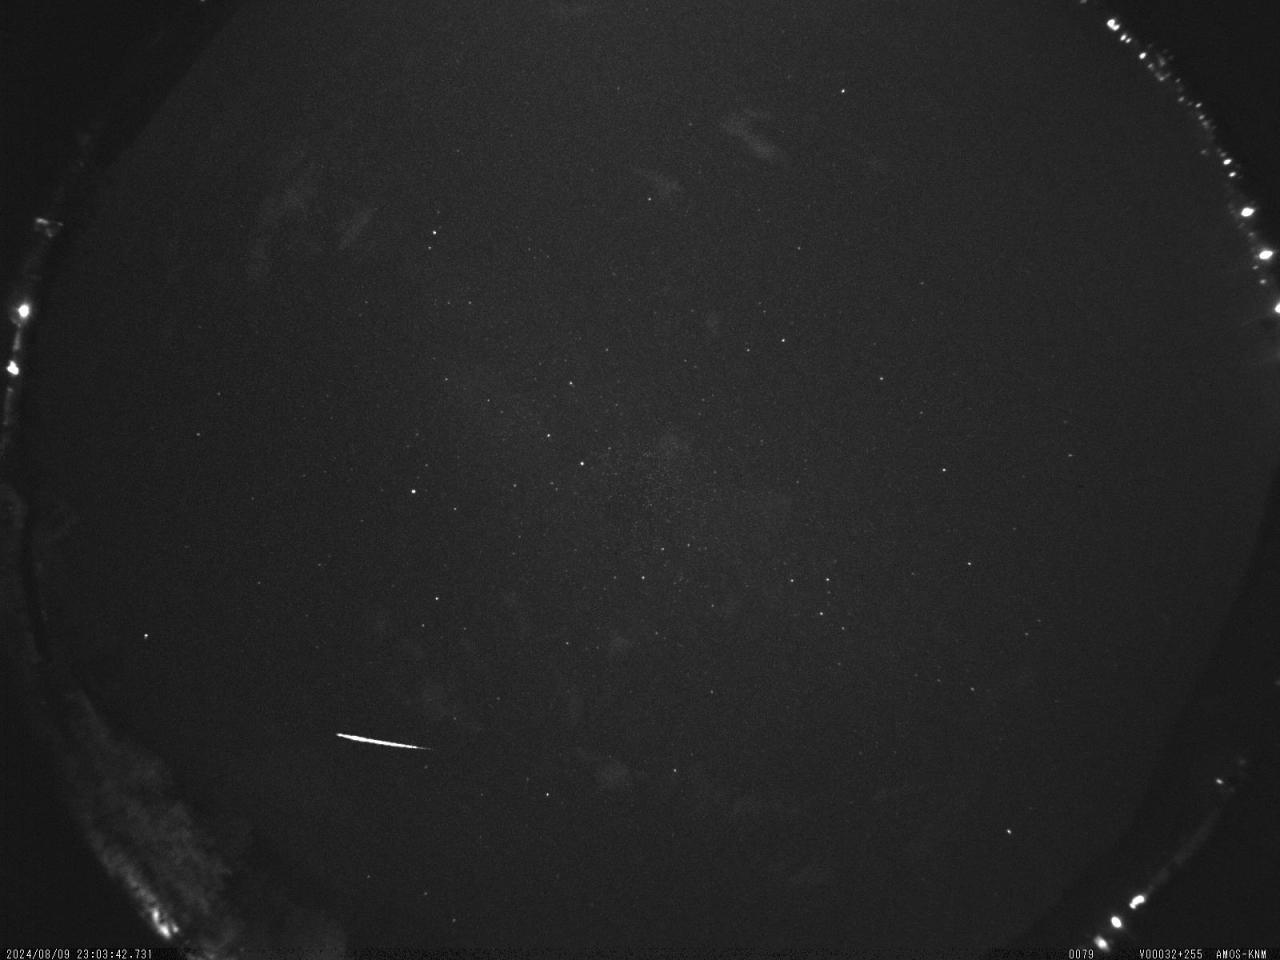Meteor: (336, 729, 429, 752)
